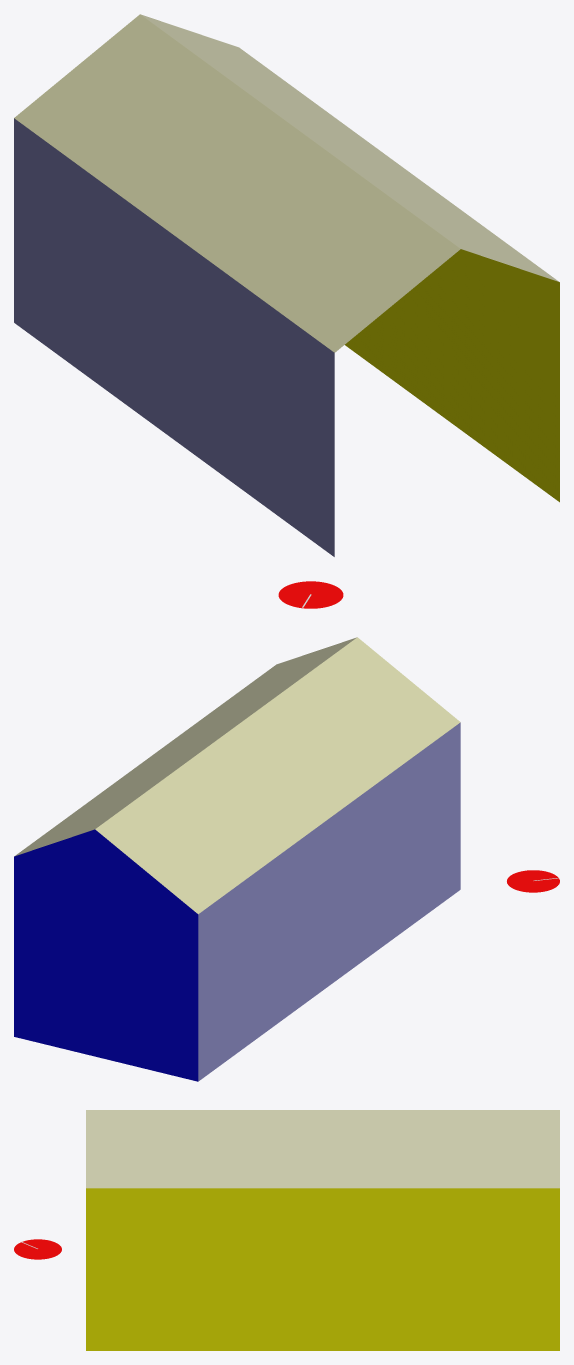
File: result.glb
The picture shows the model from 3 angles, top to bottom: view 1: azimuth 30°, elevation 25°; view 2: azimuth 150°, elevation 25°; view 3: azimuth 270°, elevation 25°; orthographic projection. The views are drawn at different scales.
Visible parts, largest first — view 1: 0a40e553-bd93-426b-9f51-b6e4d95959d1__undefined, 86a9121a-9efe-44a2-90ea-187f64616fc8__undefined, ed6e0631-af92-4675-94be-124b948e6990__undefined, bf3a0fc9-6a2a-4fbb-b17e-fa9439a0e623__undefined, 1395c20d-b39f-4dfd-b506-442bb529e3e4__Circle; view 2: 0a40e553-bd93-426b-9f51-b6e4d95959d1__undefined, 86a9121a-9efe-44a2-90ea-187f64616fc8__undefined, 4ed9fd94-6c29-4bf8-9c36-6a6feb609748__undefined, bf3a0fc9-6a2a-4fbb-b17e-fa9439a0e623__undefined, 1395c20d-b39f-4dfd-b506-442bb529e3e4__Circle; view 3: ed6e0631-af92-4675-94be-124b948e6990__undefined, bf3a0fc9-6a2a-4fbb-b17e-fa9439a0e623__undefined, 1395c20d-b39f-4dfd-b506-442bb529e3e4__Circle.
Part boxes in pixels (x1=…): 0a40e553-bd93-426b-9f51-b6e4d95959d1__undefined: x1=14, y1=118, x2=334, y2=556; 86a9121a-9efe-44a2-90ea-187f64616fc8__undefined: x1=14, y1=14, x2=460, y2=352; ed6e0631-af92-4675-94be-124b948e6990__undefined: x1=345, y1=249, x2=559, y2=502; bf3a0fc9-6a2a-4fbb-b17e-fa9439a0e623__undefined: x1=141, y1=14, x2=558, y2=281; 1395c20d-b39f-4dfd-b506-442bb529e3e4__Circle: x1=278, y1=581, x2=343, y2=608; 0a40e553-bd93-426b-9f51-b6e4d95959d1__undefined: x1=198, y1=722, x2=460, y2=1081; 86a9121a-9efe-44a2-90ea-187f64616fc8__undefined: x1=95, y1=637, x2=460, y2=914; 4ed9fd94-6c29-4bf8-9c36-6a6feb609748__undefined: x1=14, y1=829, x2=198, y2=1081; bf3a0fc9-6a2a-4fbb-b17e-fa9439a0e623__undefined: x1=14, y1=637, x2=356, y2=856; 1395c20d-b39f-4dfd-b506-442bb529e3e4__Circle: x1=507, y1=870, x2=559, y2=892; ed6e0631-af92-4675-94be-124b948e6990__undefined: x1=86, y1=1188, x2=559, y2=1350; bf3a0fc9-6a2a-4fbb-b17e-fa9439a0e623__undefined: x1=86, y1=1110, x2=559, y2=1188; 1395c20d-b39f-4dfd-b506-442bb529e3e4__Circle: x1=14, y1=1239, x2=61, y2=1259.
Bounding box in the file's own units: 550 × 471 × 1137.
